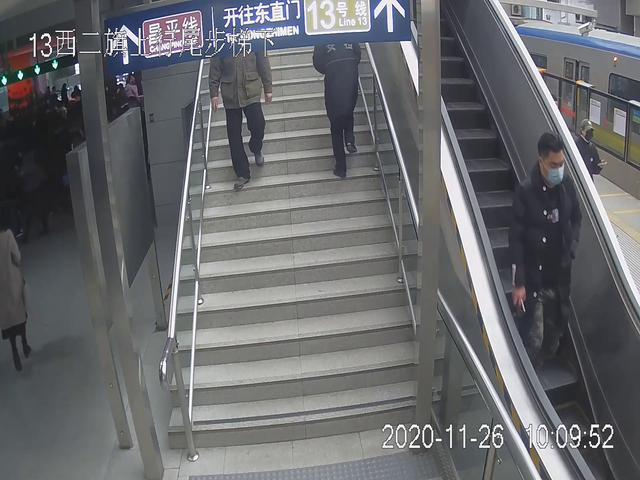person: (507, 127, 582, 386), (202, 42, 277, 191), (308, 33, 363, 179)
